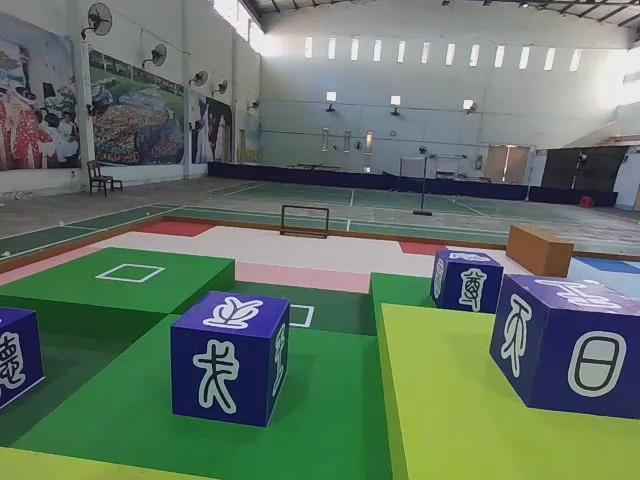R2 Fake Blue: (490, 278, 640, 425), (170, 294, 290, 434), (0, 307, 44, 426), (433, 249, 507, 314)
